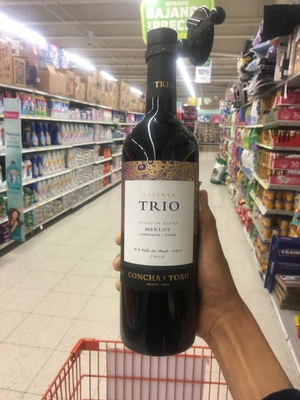trio merlot: (105, 39, 212, 355)
